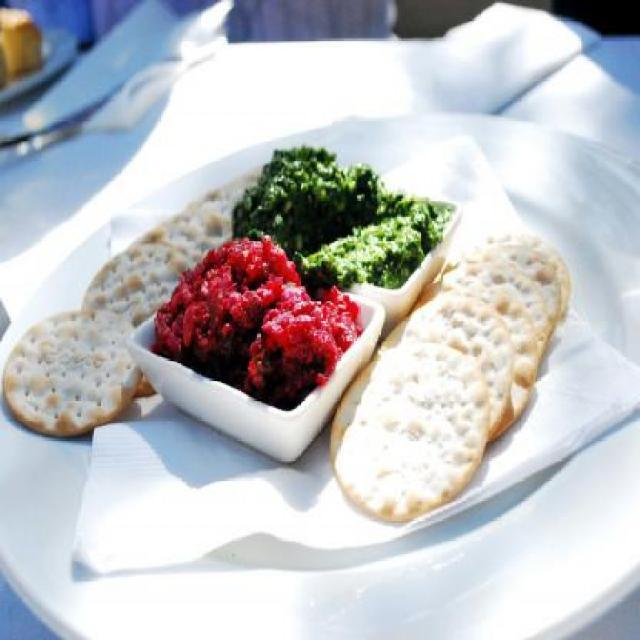Cracker packaged: (336, 340, 494, 532), (84, 243, 200, 392), (392, 292, 510, 438), (5, 312, 141, 434)
